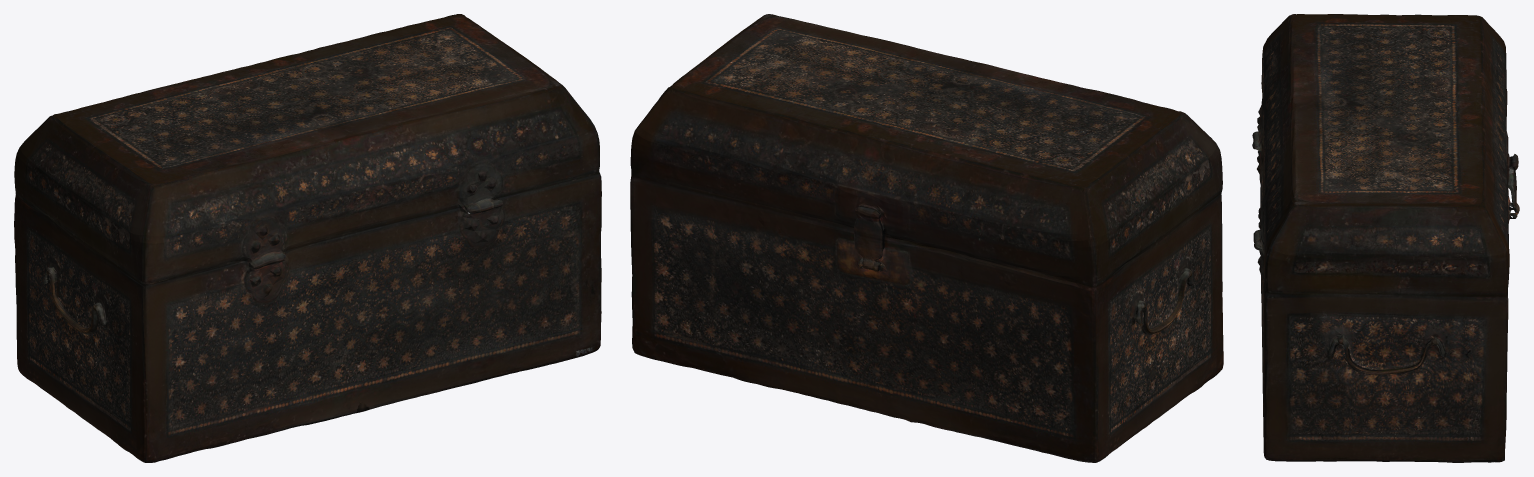
File: mother_of_pearl_sutra_case_goryeo.glb
3 renders of one model, left to right at view 1: azimuth 30°, elevation 25°; view 2: azimuth 150°, elevation 25°; view 3: azimuth 270°, elevation 25°, orthographic. The views are drawn at different scales.
Parts seen in each view (by area): view 1: Group35759; view 2: Group35759; view 3: Group35759.
Boxes of the visible parts, left/top/right/bottom form: Group35759: left=14, top=14, right=601, bottom=462; Group35759: left=630, top=14, right=1223, bottom=462; Group35759: left=1252, top=14, right=1519, bottom=462.
Size of the model in its own units: 437 by 233 by 223.
1 material, 1 textured.
